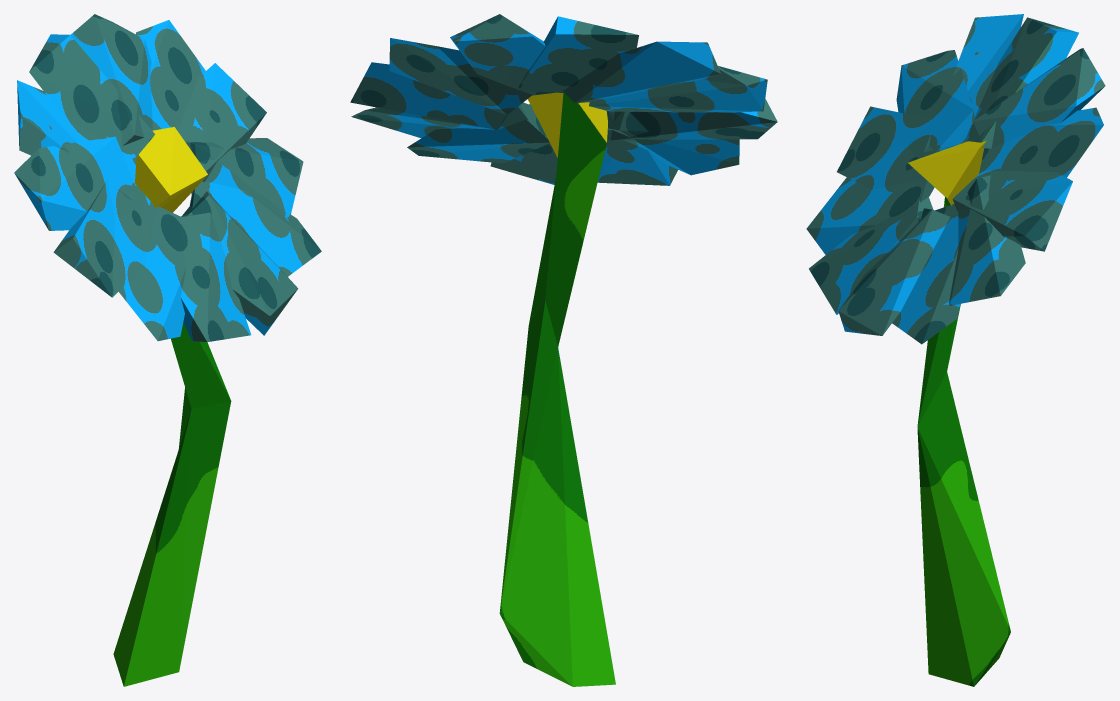
Rendered from flower2.fbx.
3 renders of one model, left to right at view 1: azimuth 30°, elevation 25°; view 2: azimuth 150°, elevation 25°; view 3: azimuth 270°, elevation 25°, orthographic. The views are drawn at different scales.
Visible parts, largest first — view 1: Cube.002; view 2: Cube.002; view 3: Cube.002.
Boxes of the visible parts, x1,y1,x2,y2 form: Cube.002: [14, 14, 321, 686]; Cube.002: [350, 14, 777, 686]; Cube.002: [806, 14, 1105, 686].
Bounding box in the file's own units: 196 × 366 × 157.
Materials: 1 (1 with a texture image).
